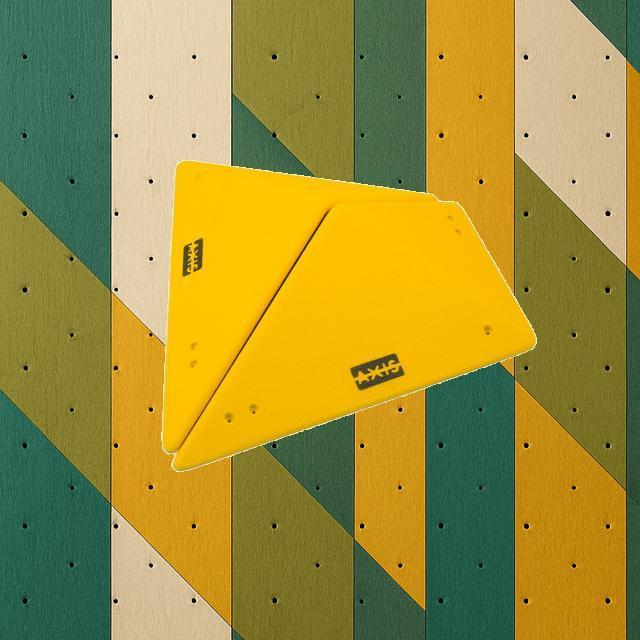Volume: (173, 200, 535, 470), (162, 160, 440, 452)
